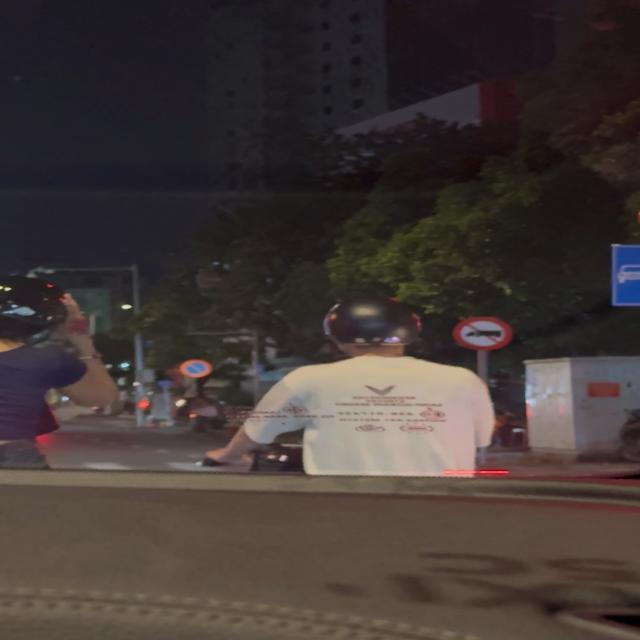Bien bao cam xe so-mi ro-mooc: (452, 316, 516, 351)
